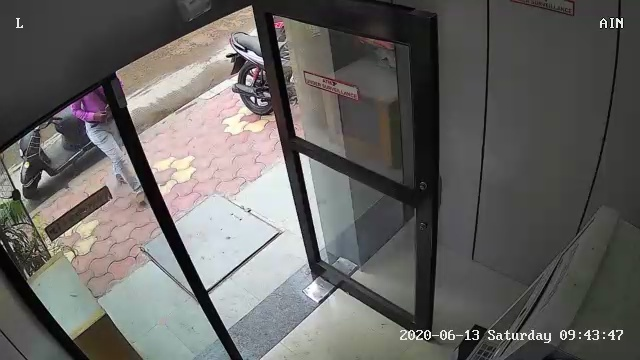open: (122, 3, 447, 359)
